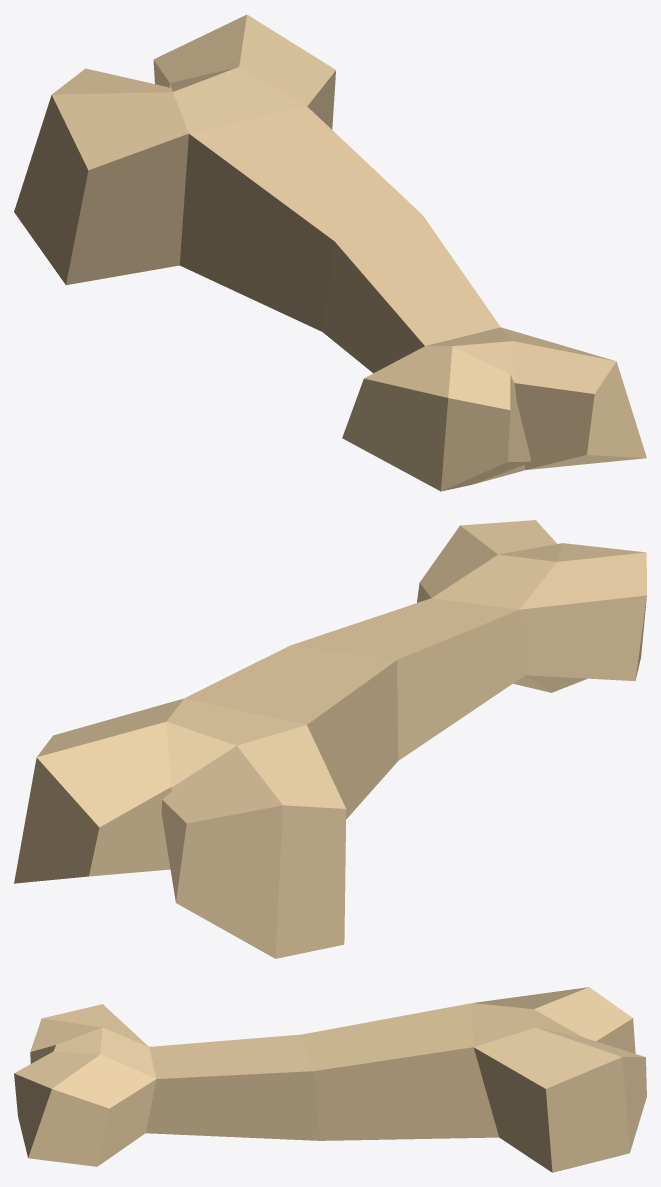
The model's file is Bone_1__0.glb.
The picture shows the model from 3 angles, top to bottom: view 1: azimuth 30°, elevation 25°; view 2: azimuth 150°, elevation 25°; view 3: azimuth 270°, elevation 25°; orthographic projection. The views are drawn at different scales.
Parts seen in each view (by area): view 1: Bone_1__0; view 2: Bone_1__0; view 3: Bone_1__0.
Part boxes in pixels (bbox=[...]): Bone_1__0: bbox=[14, 14, 646, 491]; Bone_1__0: bbox=[14, 520, 646, 958]; Bone_1__0: bbox=[14, 987, 646, 1172].
Size of the model in its own units: 0.0829 by 0.0499 by 0.2216.
Materials: 1 (1 with a texture image).
